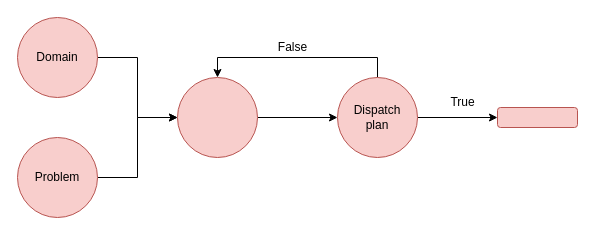
The diagram is 595 pixels wide and 235 high, and some of its shapes have lost their labels. Here are the shapes that lost their labels. From the top down, the centre of each, then its label:
pixel 217 117: Knowledge base
pixel 537 117: plan executed
